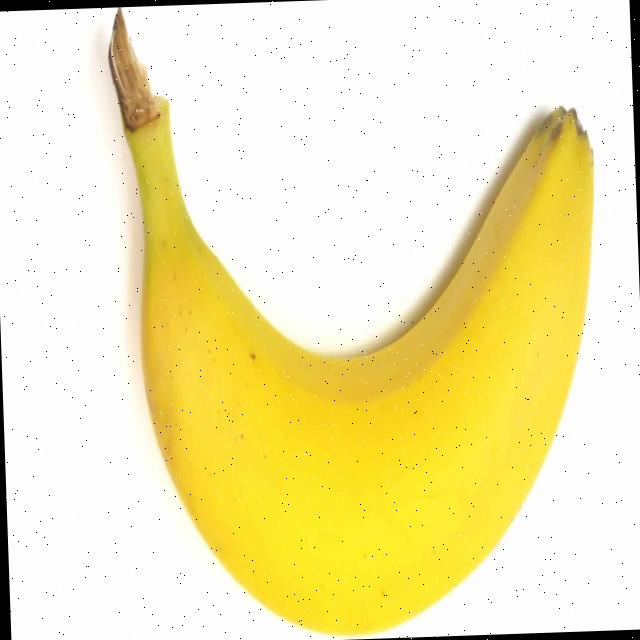Pisang: (106, 0, 611, 640)
